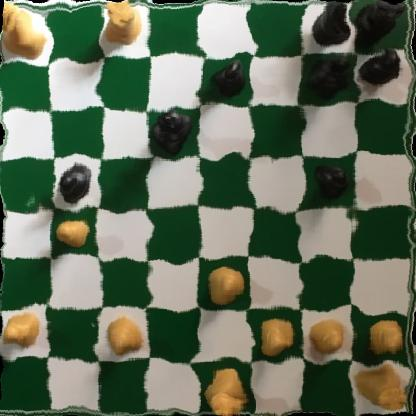black-bishop: (300, 51, 351, 99)
black-king: (147, 104, 195, 152)
black-knight: (310, 0, 354, 49)
black-pawn: (307, 158, 351, 204), (359, 48, 400, 90), (209, 55, 246, 99), (57, 162, 93, 203)
black-rook: (352, 0, 406, 48)
white-king: (195, 365, 247, 416)
white-pawn: (106, 308, 148, 357), (202, 261, 245, 306), (250, 317, 298, 356), (359, 322, 406, 359), (308, 316, 347, 357), (1, 307, 39, 348), (55, 211, 90, 250)
white-queen: (0, 0, 45, 60)
white-rook: (351, 359, 413, 416), (98, 0, 142, 53)
